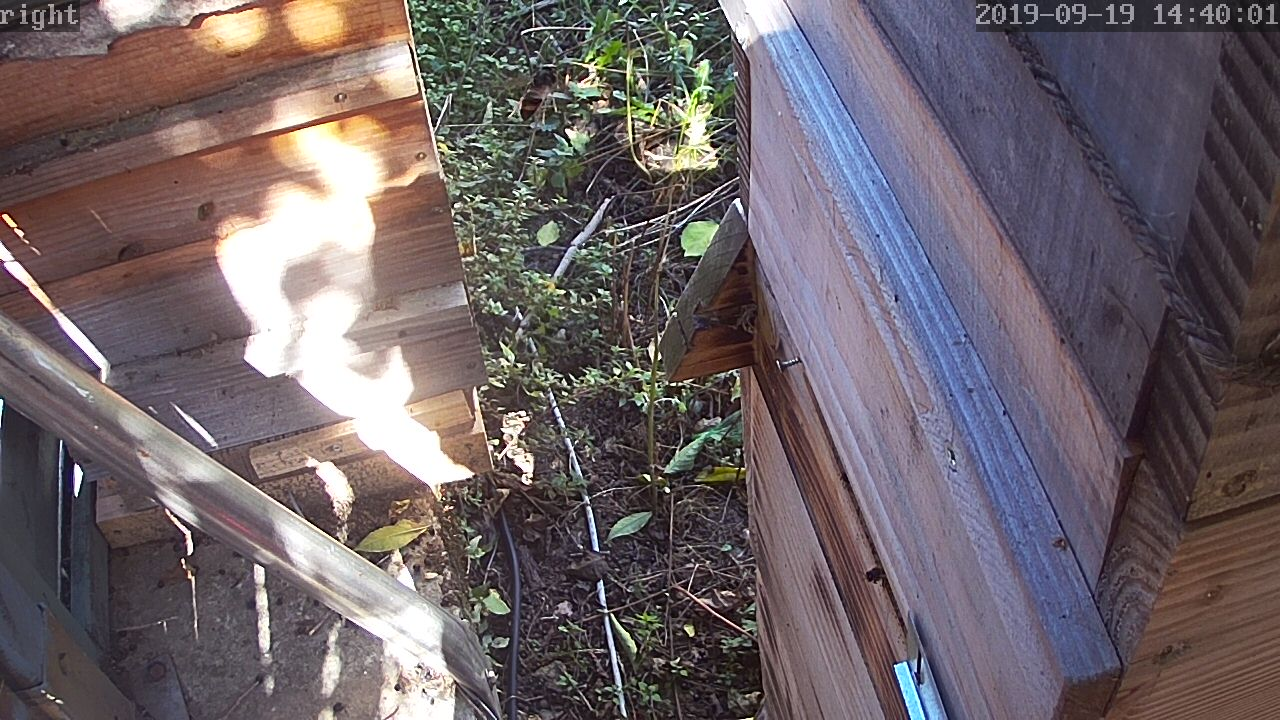bee: (859, 558, 898, 593)
hornet: (515, 56, 563, 131)
